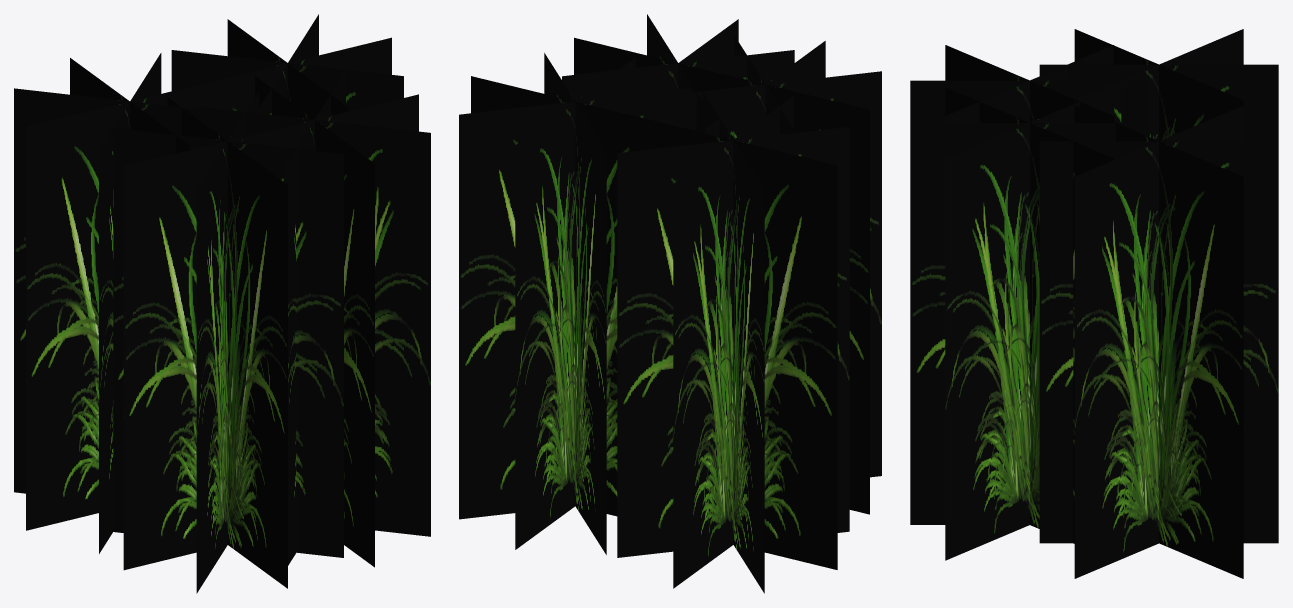
The model's file is pasto.obj.
3 renders of one model, left to right at view 1: azimuth 30°, elevation 25°; view 2: azimuth 150°, elevation 25°; view 3: azimuth 270°, elevation 25°, orthographic.
Parts seen in each view (by area): view 1: pasted__polySurface148 polySurface107, pasted__polySurface148 polySurface109, pasted__polySurface148 polySurface118, pasted__polySurface148 polySurface95, pasted__polySurface148 polySurface116, pasted__polySurface148 polySurface117, pasted__polySurface148 polySurface102, pasted__polySurface148 polySurface84, polySurface106 pasted__polySurface148, pasted__polySurface148 polySurface105, pasted__polySurface148 polySurface108, pasted__polySurface148 polySurface92 (+4 smaller); view 2: pasted__polySurface148 polySurface107, polySurface106 pasted__polySurface148, pasted__polySurface148 polySurface104, pasted__polySurface148 polySurface86, pasted__polySurface148 polySurface114, pasted__polySurface148 polySurface105, pasted__polySurface148 polySurface84, pasted__polySurface148 polySurface109, pasted__polySurface148 polySurface102, pasted__polySurface148 polySurface92, pasted__polySurface148 polySurface108, pasted__polySurface148 polySurface97 (+4 smaller); view 3: pasted__polySurface148 polySurface105, pasted__polySurface148 polySurface116, pasted__polySurface148 polySurface114, pasted__polySurface148 polySurface86, pasted__polySurface148 polySurface117, pasted__polySurface148 polySurface108, pasted__polySurface148 polySurface104, pasted__polySurface148 polySurface95, polySurface106 pasted__polySurface148, pasted__polySurface148 polySurface84, pasted__polySurface148 polySurface102, pasted__polySurface148 polySurface118.
Part boxes in pixels (left/top/right/bottom): pasted__polySurface148 polySurface107: left=26, top=76, right=233, bottom=530; pasted__polySurface148 polySurface109: left=123, top=116, right=331, bottom=570; pasted__polySurface148 polySurface118: left=111, top=128, right=343, bottom=557; pasted__polySurface148 polySurface95: left=167, top=97, right=287, bottom=588; pasted__polySurface148 polySurface116: left=199, top=106, right=430, bottom=536; pasted__polySurface148 polySurface117: left=255, top=76, right=374, bottom=567; pasted__polySurface148 polySurface102: left=196, top=92, right=258, bottom=593; pasted__polySurface148 polySurface84: left=14, top=88, right=245, bottom=493; polySurface106 pasted__polySurface148: left=99, top=53, right=161, bottom=553; pasted__polySurface148 polySurface105: left=171, top=50, right=403, bottom=111; pasted__polySurface148 polySurface108: left=283, top=71, right=345, bottom=565; pasted__polySurface148 polySurface92: left=183, top=37, right=391, bottom=111; pasted__polySurface148 polySurface107: left=629, top=115, right=837, bottom=569; polySurface106 pasted__polySurface148: left=617, top=127, right=849, bottom=557; pasted__polySurface148 polySurface104: left=673, top=96, right=793, bottom=588; pasted__polySurface148 polySurface86: left=515, top=57, right=635, bottom=549; pasted__polySurface148 polySurface114: left=459, top=88, right=691, bottom=519; pasted__polySurface148 polySurface105: left=544, top=53, right=606, bottom=554; pasted__polySurface148 polySurface84: left=702, top=91, right=764, bottom=593; pasted__polySurface148 polySurface109: left=688, top=66, right=869, bottom=514; pasted__polySurface148 polySurface102: left=649, top=71, right=881, bottom=477; pasted__polySurface148 polySurface92: left=471, top=76, right=679, bottom=516; pasted__polySurface148 polySurface108: left=562, top=50, right=794, bottom=101; pasted__polySurface148 polySurface97: left=574, top=37, right=782, bottom=105; pasted__polySurface148 polySurface105: left=1074, top=105, right=1243, bottom=578; pasted__polySurface148 polySurface116: left=945, top=87, right=1114, bottom=560; pasted__polySurface148 polySurface114: left=1074, top=106, right=1243, bottom=578; pasted__polySurface148 polySurface86: left=1039, top=141, right=1278, bottom=543; pasted__polySurface148 polySurface117: left=910, top=123, right=1149, bottom=524; pasted__polySurface148 polySurface108: left=945, top=87, right=1114, bottom=543; pasted__polySurface148 polySurface104: left=1039, top=64, right=1278, bottom=141; pasted__polySurface148 polySurface95: left=910, top=80, right=1149, bottom=122; polySurface106 pasted__polySurface148: left=1074, top=29, right=1243, bottom=140; pasted__polySurface148 polySurface84: left=1074, top=29, right=1243, bottom=140; pasted__polySurface148 polySurface102: left=945, top=45, right=1114, bottom=122; pasted__polySurface148 polySurface118: left=945, top=45, right=1114, bottom=122.
Bounding box in the file's own units: 5.6 × 5.91 × 4.9.
Materials: 1 (1 with a texture image).
